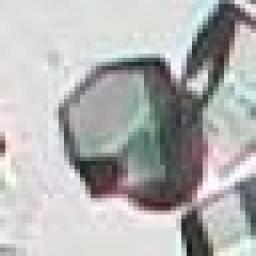crystals: (56, 47, 212, 215)
